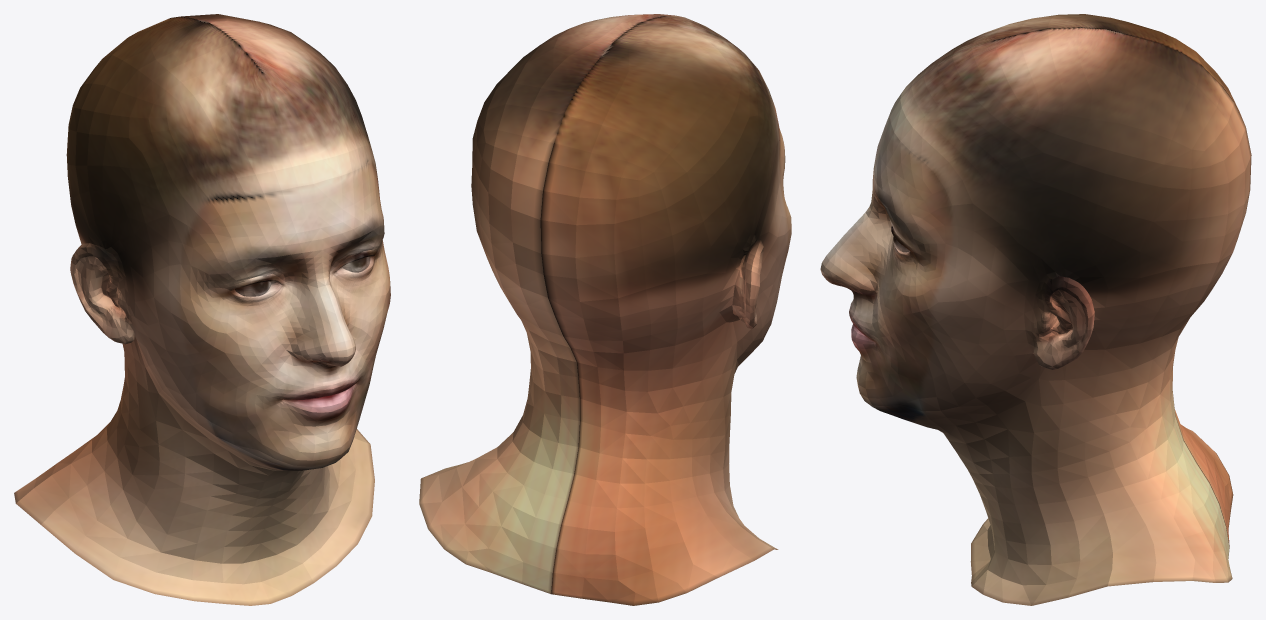
Rendered from jws.fbx.
3 views of the same model, side by side, from view 1: azimuth 30°, elevation 25°; view 2: azimuth 150°, elevation 25°; view 3: azimuth 270°, elevation 25° (orthographic). The views are drawn at different scales.
Visible parts, largest first — view 1: jws; view 2: jws; view 3: jws.
Part boxes in pixels (x1,y1,x2,y2): jws: (14,14,390,605); jws: (419,14,791,605); jws: (820,14,1251,605).
Size of the model in its own units: 21.17 by 32.36 by 23.02.
1 material, 1 textured.
